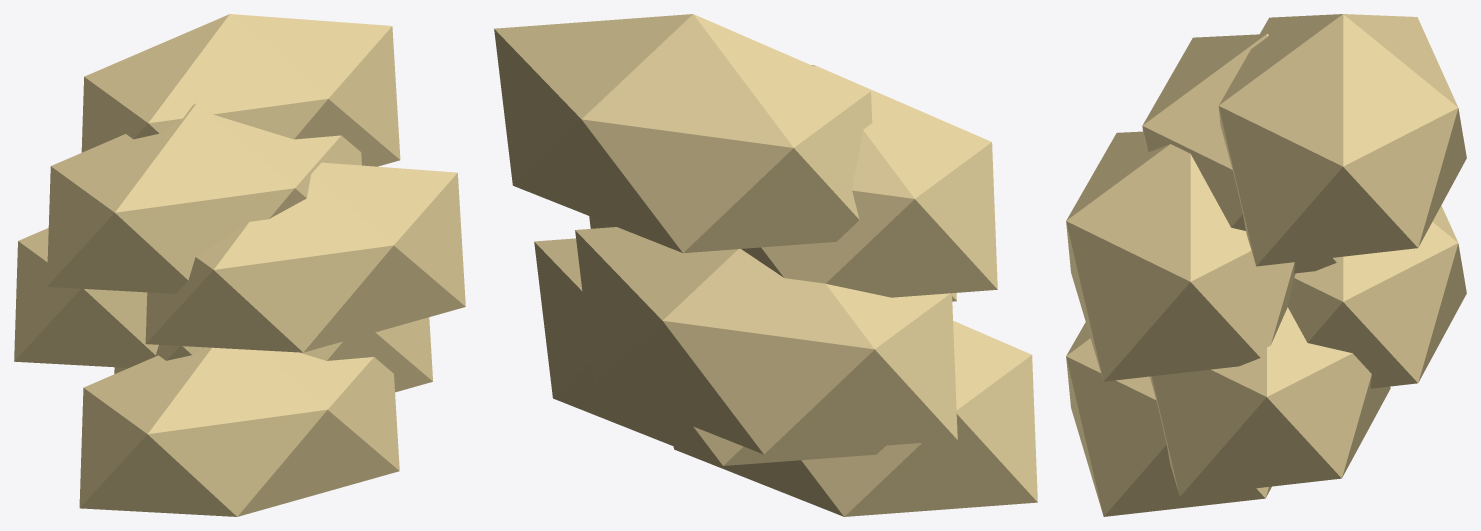
Rendered from item_068_millet_seed_l.glb.
The picture shows the model from 3 angles, left to right: view 1: azimuth 30°, elevation 25°; view 2: azimuth 150°, elevation 25°; view 3: azimuth 270°, elevation 25°; orthographic projection. The views are drawn at different scales.
Parts seen in each view (by area): view 1: item_068_millet_seed_l; view 2: item_068_millet_seed_l; view 3: item_068_millet_seed_l.
Boxes of the visible parts, bbox=[...] form: item_068_millet_seed_l: bbox=[14, 14, 465, 516]; item_068_millet_seed_l: bbox=[494, 14, 1037, 516]; item_068_millet_seed_l: bbox=[1066, 14, 1466, 516].
Bounding box in the file's own units: 0.4008 × 0.4425 × 0.3153.
